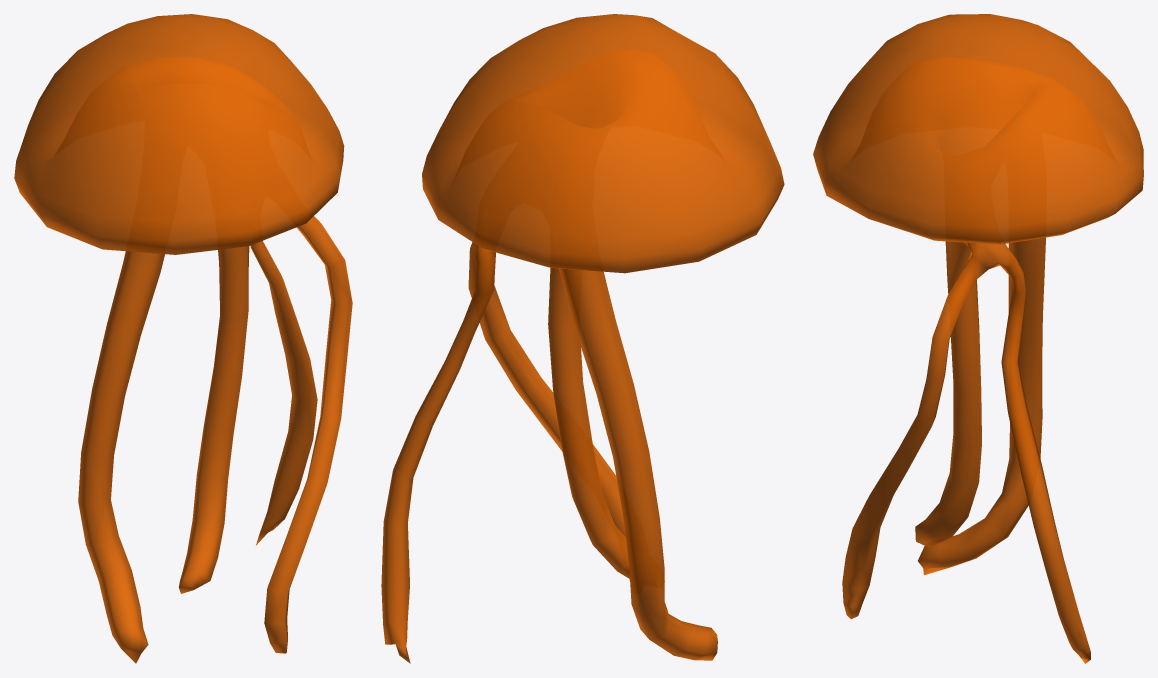
The model's file is jellyfish2.obj.
The picture shows the model from 3 angles, left to right: view 1: azimuth 30°, elevation 25°; view 2: azimuth 150°, elevation 25°; view 3: azimuth 270°, elevation 25°; orthographic projection. The views are drawn at different scales.
Visible parts, largest first — view 1: Group34460; view 2: Group34460; view 3: Group34460.
Boxes of the visible parts, x1,y1,x2,y2 form: Group34460: (14, 14, 352, 663); Group34460: (381, 14, 784, 663); Group34460: (813, 14, 1143, 663).
Size of the model in its own units: 0.2912 by 0.5321 by 0.2733.
